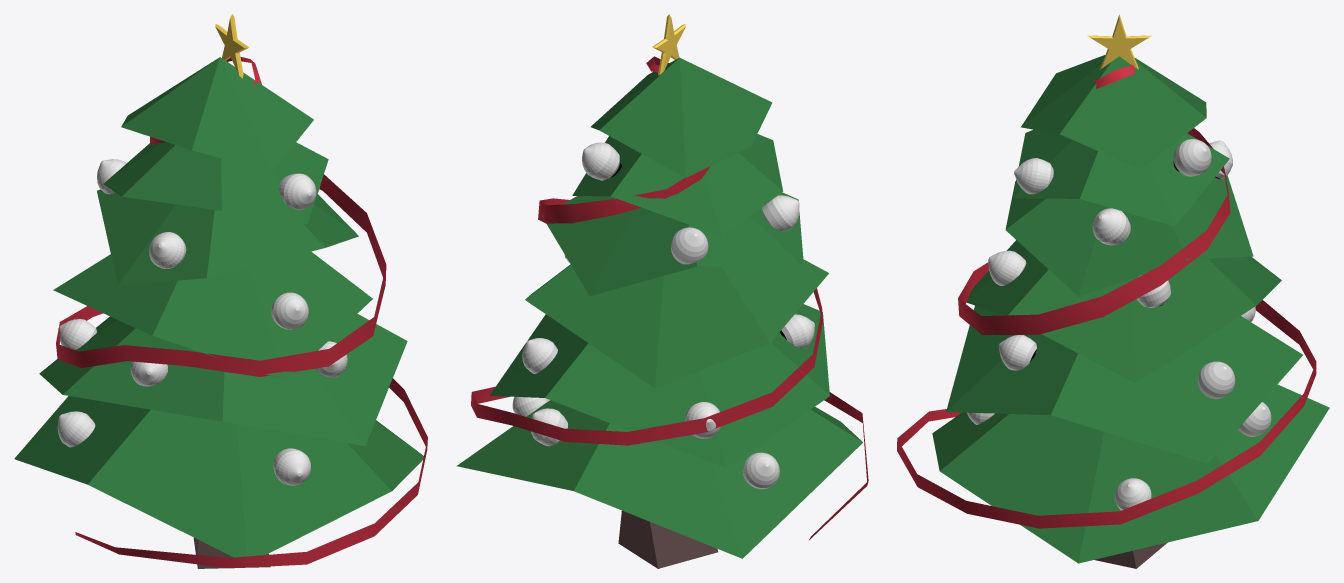
File: tree_with_star.fbx
3 views of the same model, side by side, from view 1: azimuth 30°, elevation 25°; view 2: azimuth 150°, elevation 25°; view 3: azimuth 270°, elevation 25° (orthographic).
Parts seen in each view (by area): view 1: Circle, Circle.001, Circle.002, Circle.003, Veil_Thick.001, Circle.005, Circle.004, svetielko.013, svetielko.015, svetielko.011, svetielko.014, svetielko.006 (+5 smaller); view 2: Circle, Circle.002, Circle.001, Circle.005, Circle.003, Circle.004, Veil_Thick.001, Cube, svetielko.009, svetielko.010, svetielko.006, svetielko.011 (+5 smaller); view 3: Circle, Circle.001, Circle.002, Veil_Thick.001, Circle.003, Circle.005, Circle.004, Star.001, svetielko.009, svetielko.008, svetielko.005, svetielko.014 (+6 smaller).
Boxes of the visible parts, x1,y1,x2,y2 form: Circle: [14, 396, 423, 557]; Circle.001: [39, 314, 407, 445]; Circle.002: [53, 251, 372, 380]; Circle.003: [97, 189, 358, 285]; Veil_Thick.001: [56, 57, 427, 568]; Circle.005: [121, 57, 313, 171]; Circle.004: [103, 142, 328, 223]; svetielko.013: [273, 448, 310, 485]; svetielko.015: [271, 292, 308, 329]; svetielko.011: [149, 232, 186, 268]; svetielko.014: [279, 173, 316, 210]; svetielko.006: [57, 411, 95, 447]; Circle: [456, 400, 862, 558]; Circle.002: [525, 259, 828, 387]; Circle.001: [490, 304, 829, 467]; Circle.005: [591, 57, 772, 177]; Circle.003: [542, 192, 803, 295]; Circle.004: [572, 134, 783, 236]; Veil_Thick.001: [471, 56, 868, 539]; Cube: [618, 510, 718, 568]; svetielko.009: [582, 142, 621, 180]; svetielko.010: [671, 227, 708, 264]; svetielko.006: [742, 452, 779, 489]; svetielko.011: [762, 195, 799, 231]; Circle: [932, 384, 1329, 563]; Circle.001: [946, 305, 1302, 463]; Circle.002: [966, 240, 1281, 383]; Veil_Thick.001: [897, 64, 1316, 528]; Circle.003: [1005, 175, 1253, 296]; Circle.005: [1021, 55, 1206, 169]; Circle.004: [1012, 129, 1229, 226]; Star.001: [1087, 14, 1151, 70]; svetielko.009: [1173, 139, 1211, 176]; svetielko.008: [1092, 208, 1130, 245]; svetielko.005: [1197, 361, 1235, 399]; svetielko.014: [1014, 158, 1053, 194].
Size of the model in its own units: 790 by 1185 by 871.
